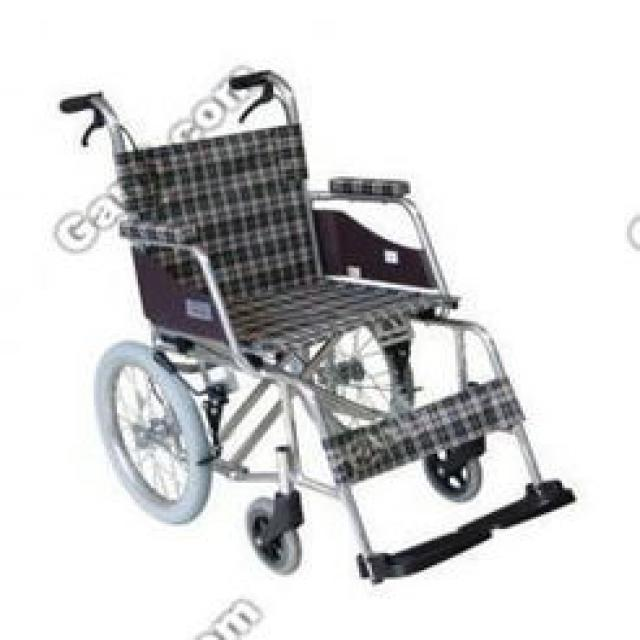wheelchair: (0, 53, 599, 583)
